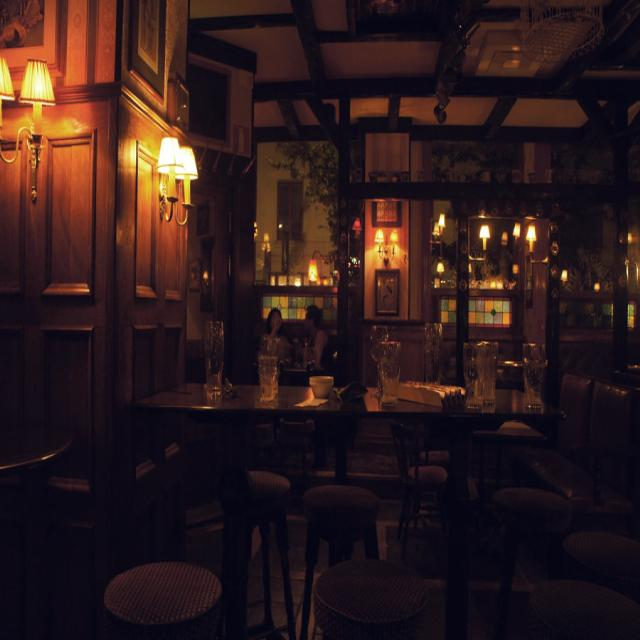Cup: (363, 325, 406, 410), (196, 314, 235, 405), (464, 336, 503, 412), (250, 336, 282, 413), (520, 330, 548, 418), (423, 316, 450, 398)
People: (302, 296, 344, 390), (259, 302, 298, 373)
Table: (127, 321, 569, 499), (0, 389, 71, 581)
chair: (532, 348, 640, 521), (310, 544, 440, 640), (135, 425, 231, 555), (236, 448, 304, 630), (106, 541, 229, 640), (302, 457, 398, 571), (373, 399, 472, 505), (524, 557, 640, 640), (463, 413, 553, 501), (47, 480, 115, 593), (271, 400, 334, 497), (552, 522, 640, 587)
